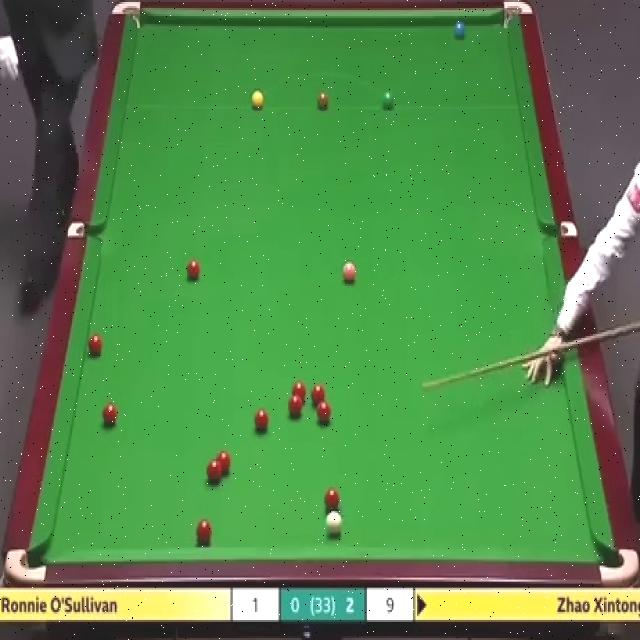blue-ball: (454, 22, 467, 41)
brown-ball: (316, 90, 329, 110)
green-ball: (381, 91, 394, 110)
pink-ball: (342, 264, 357, 286)
red-ball: (100, 401, 117, 426), (197, 519, 213, 545), (316, 398, 331, 424), (207, 458, 223, 482), (216, 450, 232, 474), (326, 488, 340, 514), (254, 406, 268, 431), (289, 396, 304, 418), (291, 381, 307, 401), (88, 333, 101, 357), (312, 384, 326, 405), (186, 262, 201, 280)
white-ball: (325, 512, 341, 534)
yellow-ball: (251, 90, 264, 110)
